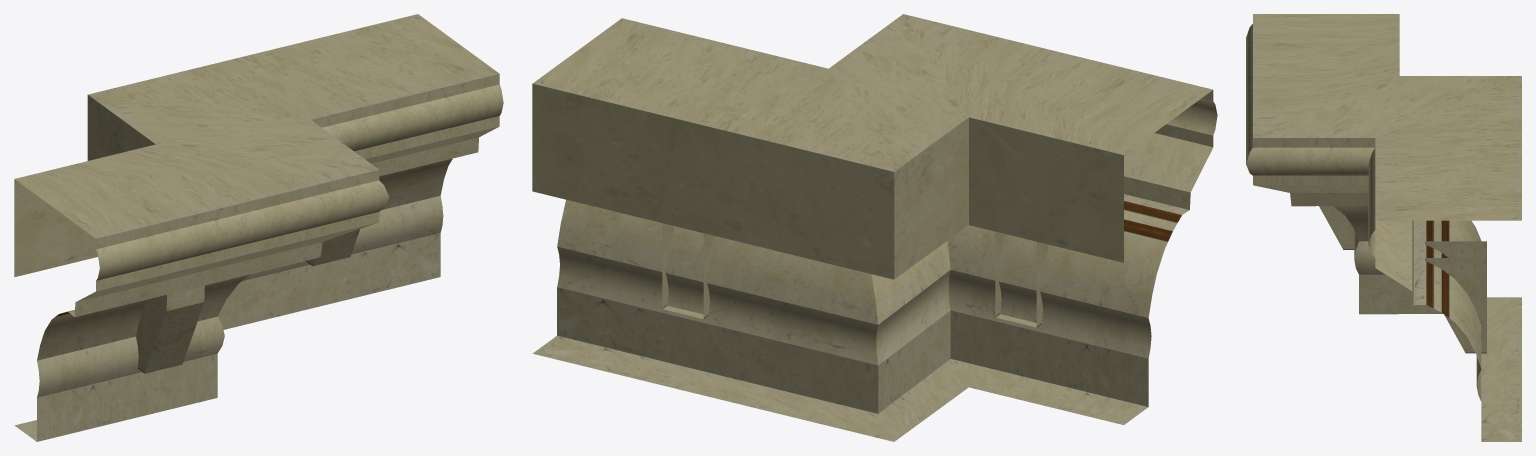
Rendered from Cornice_Trim_90Angle_L.gltf.
The picture shows the model from 3 angles, left to right: view 1: azimuth 30°, elevation 25°; view 2: azimuth 150°, elevation 25°; view 3: azimuth 270°, elevation 25°; orthographic projection. The views are drawn at different scales.
Visible parts, largest first — view 1: Cornice_Trim_90Angle_L; view 2: Cornice_Trim_90Angle_L; view 3: Cornice_Trim_90Angle_L.
Part boxes in pixels (x1=…): Cornice_Trim_90Angle_L: x1=14, y1=14, x2=503, y2=441; Cornice_Trim_90Angle_L: x1=532, y1=14, x2=1217, y2=441; Cornice_Trim_90Angle_L: x1=1246, y1=14, x2=1521, y2=441.
Size of the model in its own units: 2 by 0.9984 by 1.13.
1 material, 1 textured.
